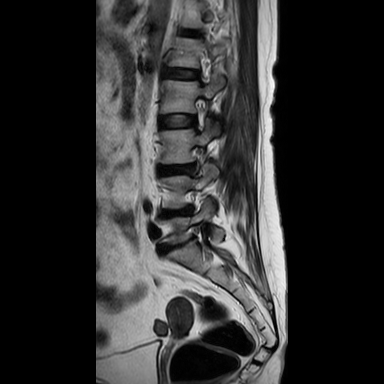LFS0: (185, 91, 214, 140)
